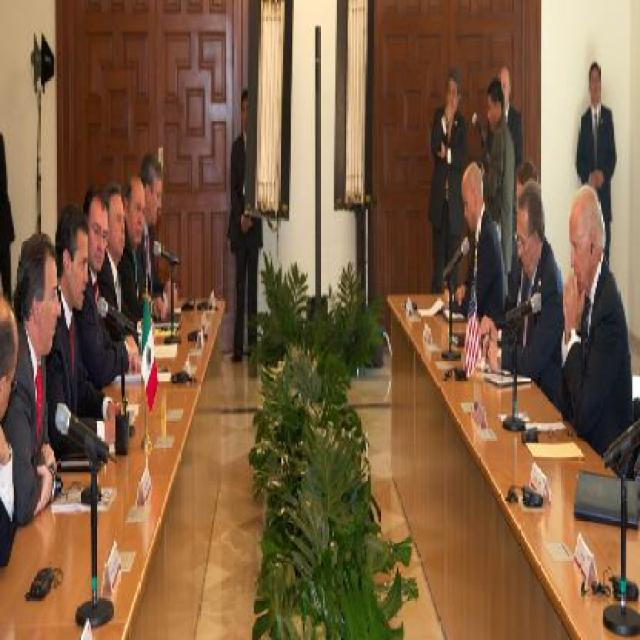Person: (427, 63, 633, 488), (0, 149, 183, 597), (5, 198, 67, 554), (228, 84, 262, 364)
